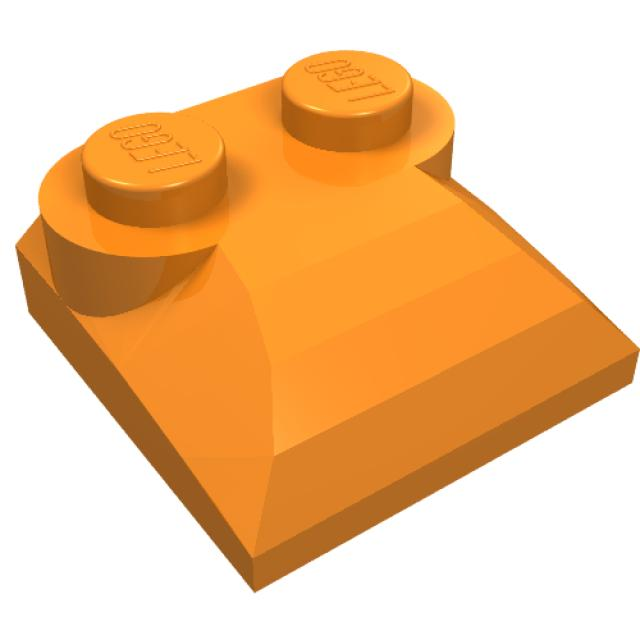Orange_Small: (14, 50, 640, 594)
